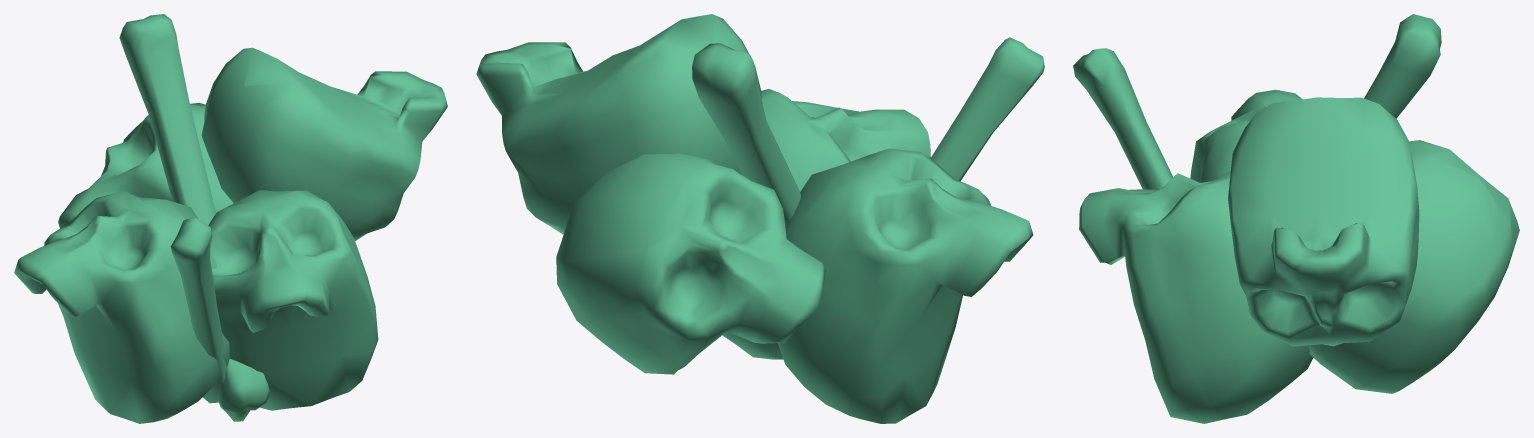
Rendered from Jar_Bones_01_Lod0.fbx.
The picture shows the model from 3 angles, left to right: view 1: azimuth 30°, elevation 25°; view 2: azimuth 150°, elevation 25°; view 3: azimuth 270°, elevation 25°; orthographic projection. The views are drawn at different scales.
Visible parts, largest first — view 1: Jar_Bones_01_Lod0; view 2: Jar_Bones_01_Lod0; view 3: Jar_Bones_01_Lod0.
Part boxes in pixels (x1,y1,x2,y2): Jar_Bones_01_Lod0: [14, 14, 447, 423]; Jar_Bones_01_Lod0: [476, 14, 1044, 423]; Jar_Bones_01_Lod0: [1073, 14, 1519, 423].
Bounding box in the file's own units: 39.88 × 28.99 × 31.73.
